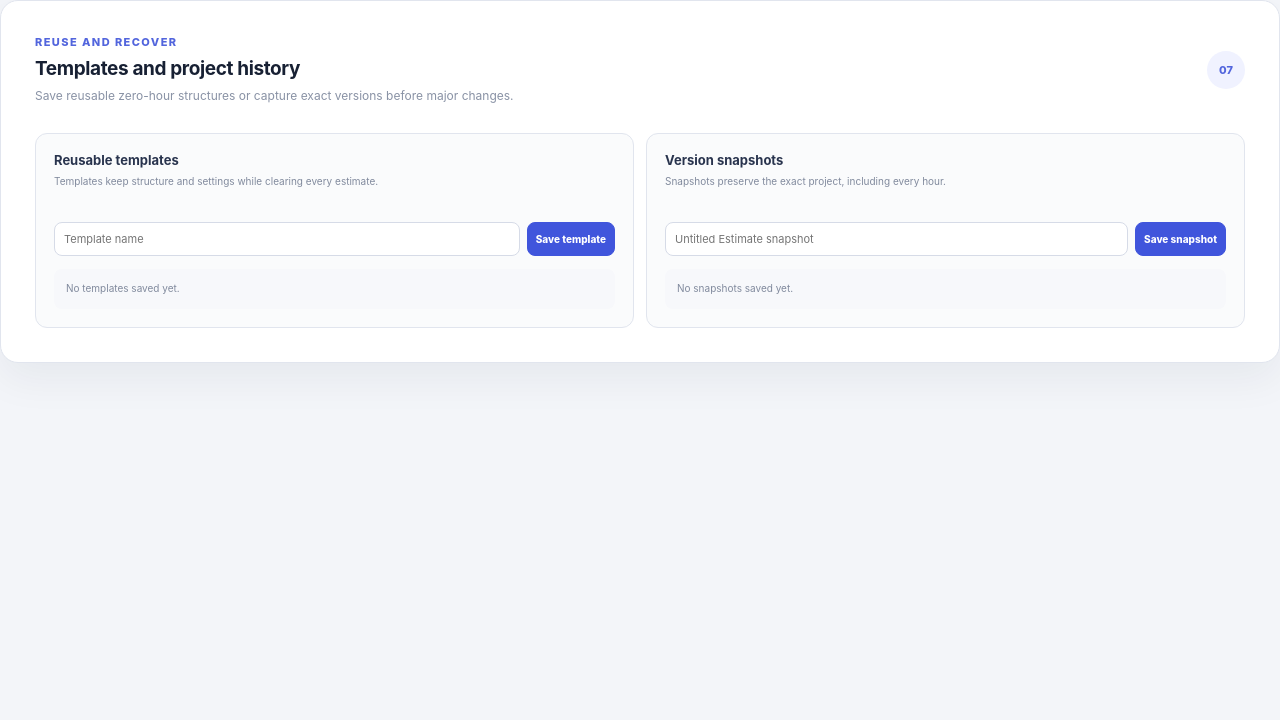
ProjectHistoryPanel › saves and applies a reusable template with zero hours
Type "Billing Template" into the field labelled "Template name". click: (287, 239)
box: [54, 222, 520, 256]
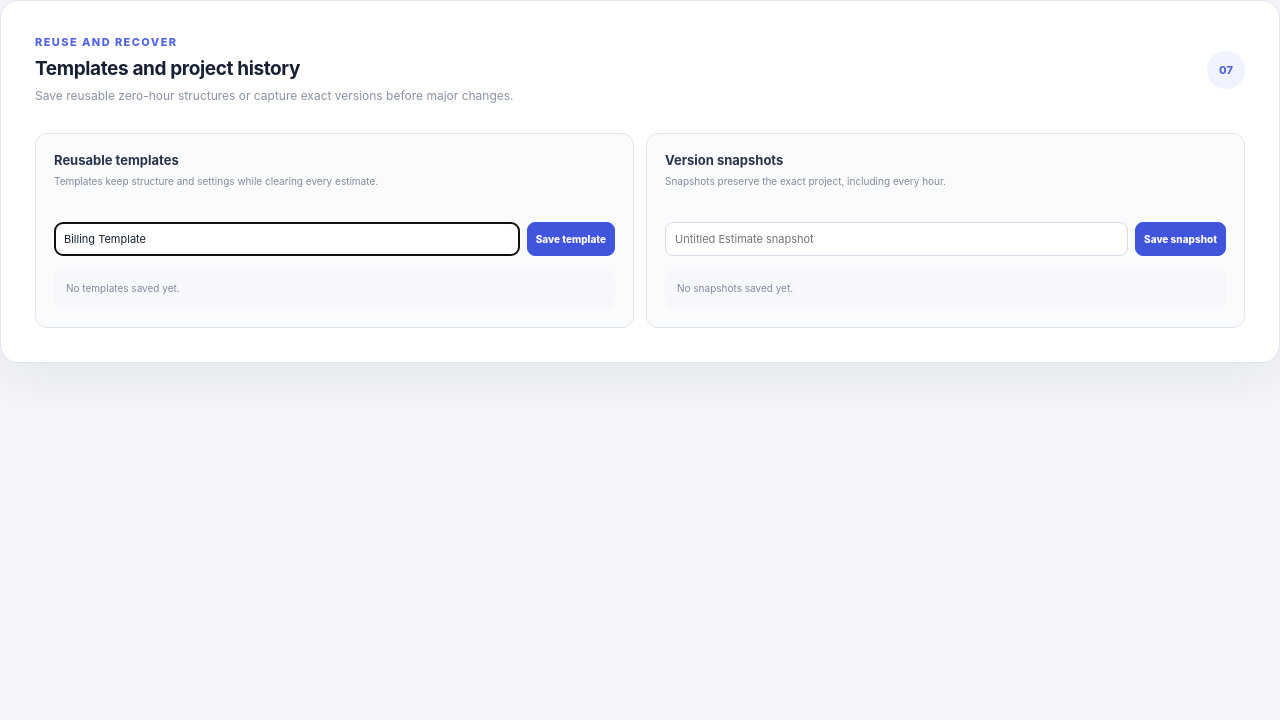
Click the button "Save template". click: (571, 239)
box: [527, 222, 615, 256]
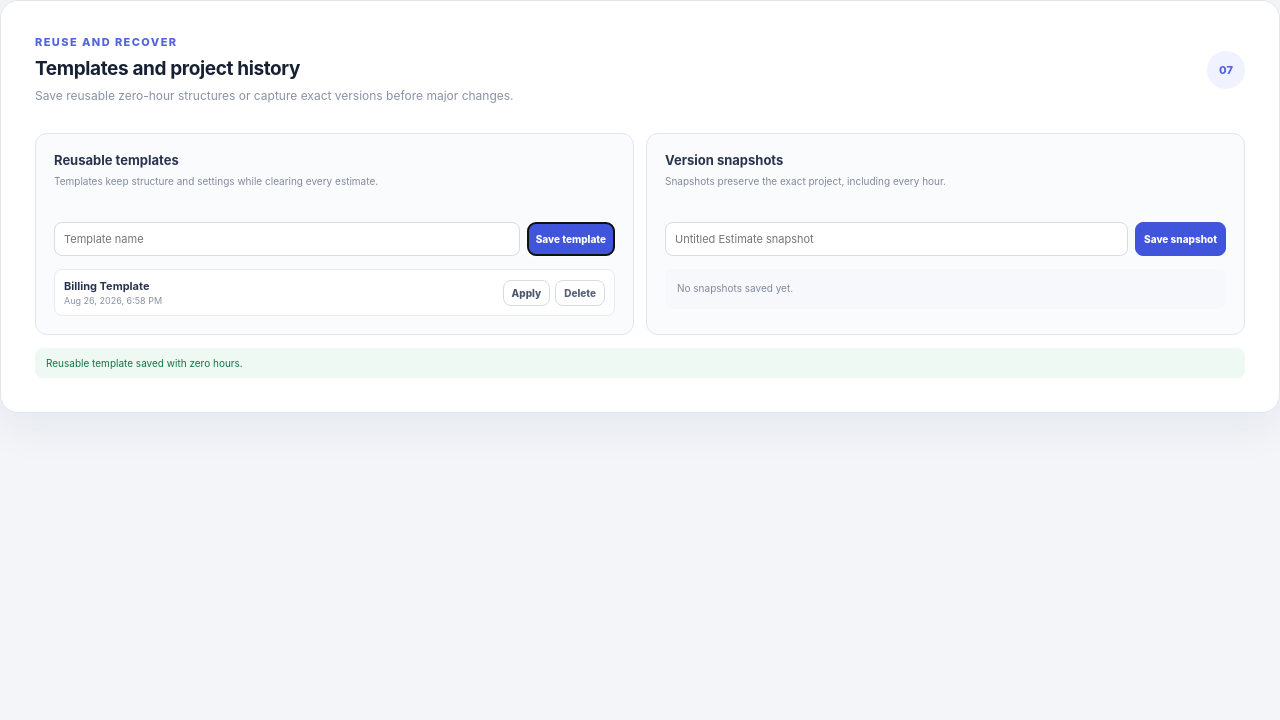
Expected: the text "Billing Template" is shown, [64, 279, 162, 293]
Click the button "Apply". click: (526, 292)
box: [503, 280, 550, 306]
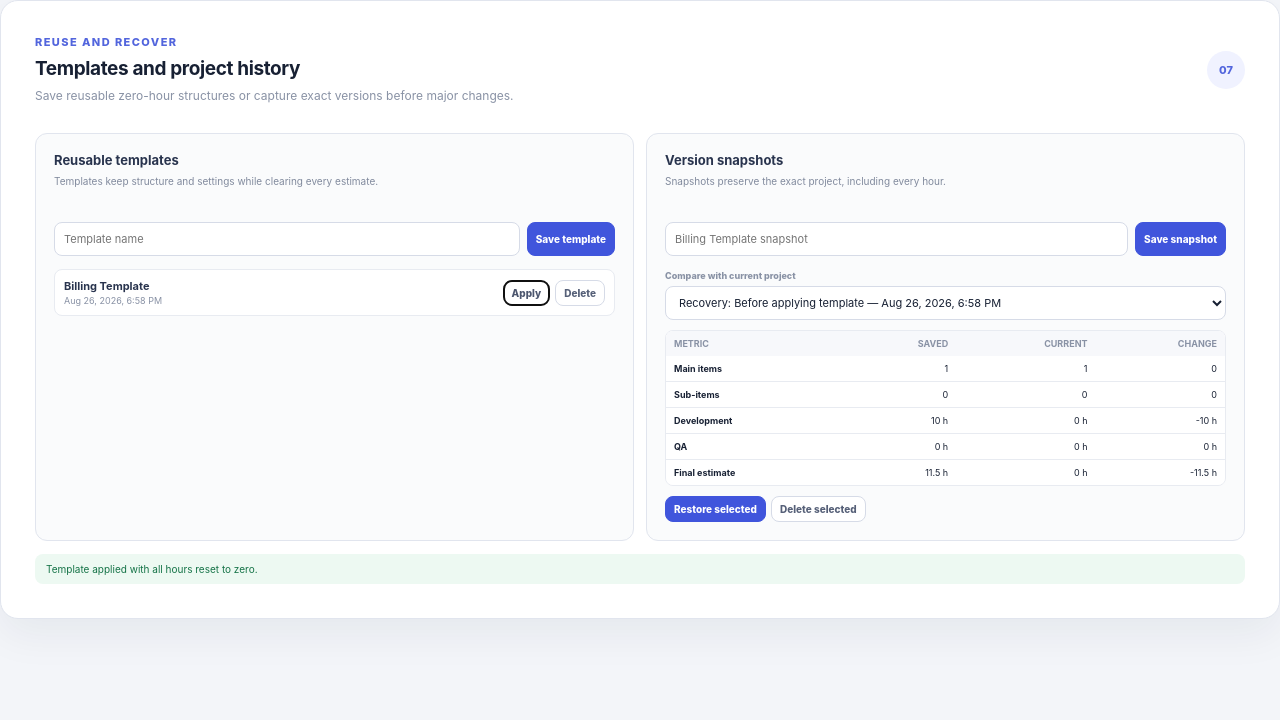
Expected: the text "Billing Template" is shown, [64, 279, 162, 293]
Expected: the text "Template applied with all hours reset to zero." is shown, [35, 554, 1245, 584]
